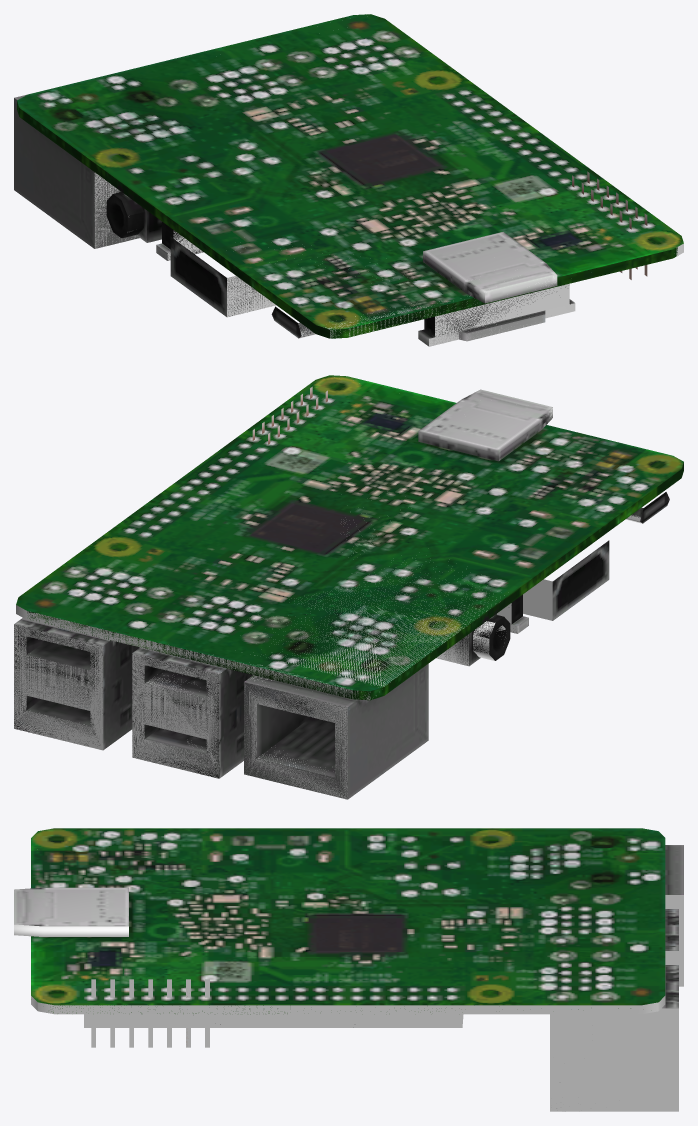
Rendered from blade_pocket_emp_part_circuit.glb.
3 renders of one model, top to bottom at view 1: azimuth 30°, elevation 25°; view 2: azimuth 150°, elevation 25°; view 3: azimuth 270°, elevation 25°, orthographic.
Parts seen in each view (by area): view 1: g_circuit, o_circuit; view 2: g_circuit, o_circuit; view 3: g_circuit, o_circuit.
Boxes of the visible parts, x1=… form: g_circuit: x1=14, y1=14, x2=683, y2=346; o_circuit: x1=94, y1=172, x2=683, y2=346; g_circuit: x1=14, y1=375, x2=683, y2=799; o_circuit: x1=14, y1=408, x2=641, y2=799; g_circuit: x1=14, y1=828, x2=683, y2=1111; o_circuit: x1=14, y1=895, x2=683, y2=1111.
Size of the model in its own units: 0.1003 by 0.032 by 0.1569.
Materials: 2 (1 with a texture image).
